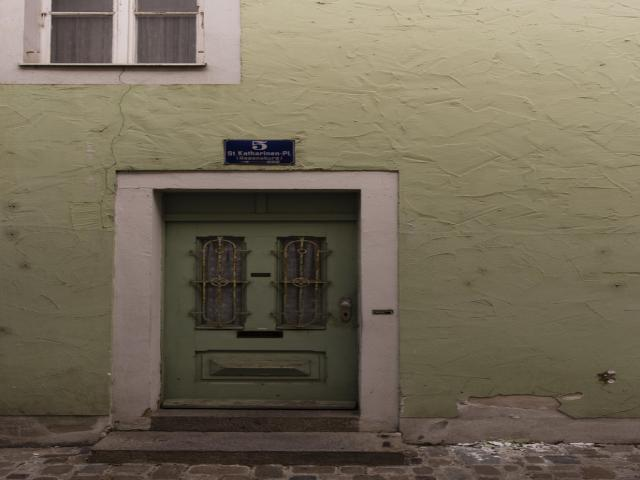Door-handle: (341, 296, 352, 321)
